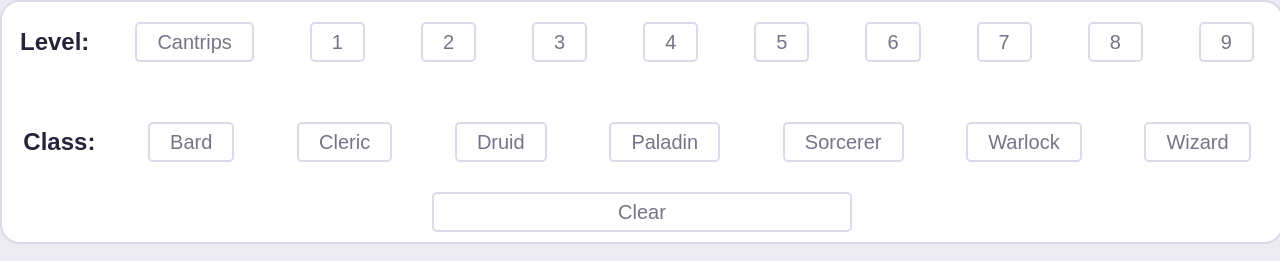
Test: keeps Paladin available at level 5 and disables incompatible levels after selecting it
Click the button "5".
click(782, 42)  # box [754,22,810,62]
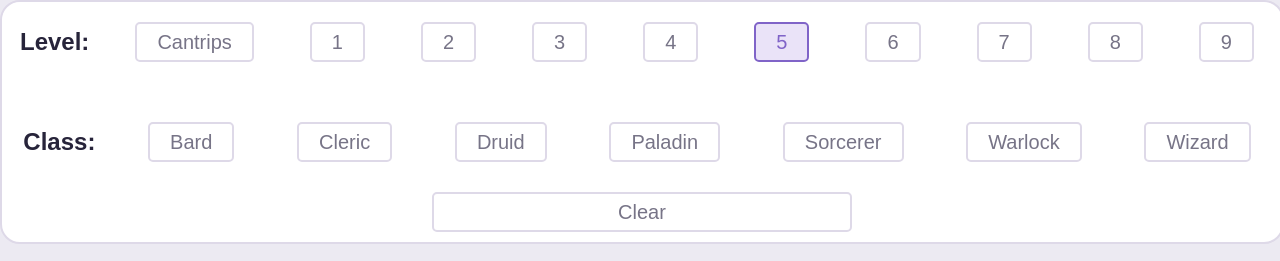
Click the button "Paladin".
click(665, 142)  # box [609,122,720,162]
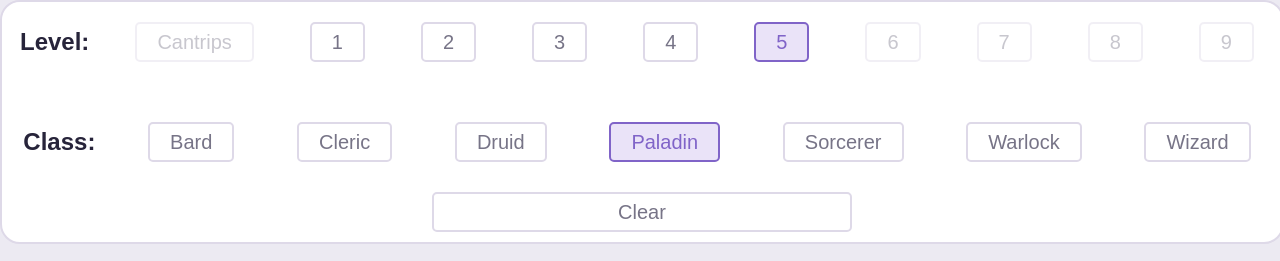
Expected: the button "5" is enabled, [754,22,810,62]
Result: the button "Cantrips" is disabled at [135,22,254,62]
Result: the button "6" is disabled at [866,22,921,62]
